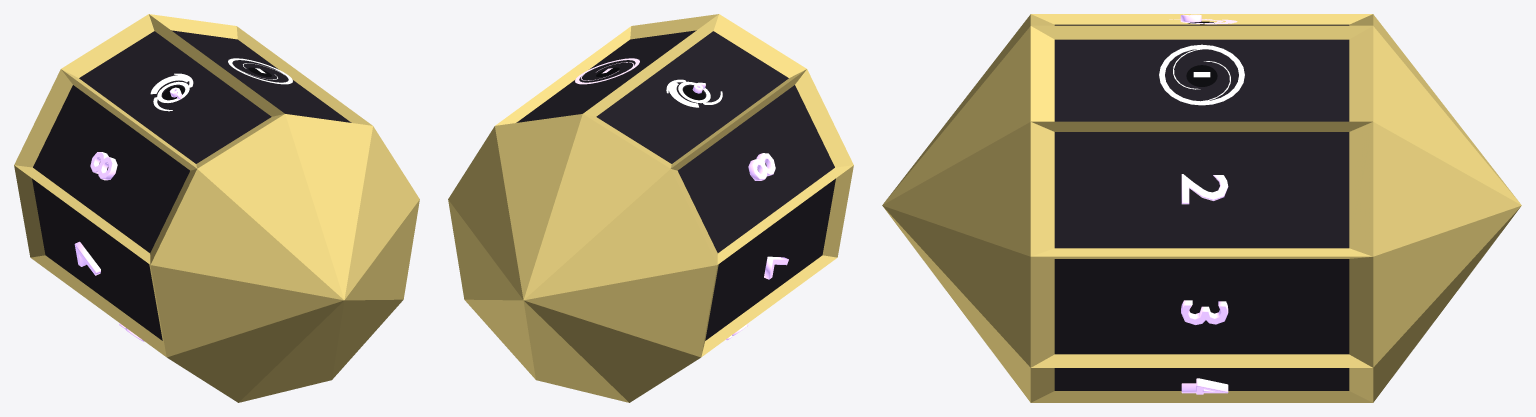
Rendered from d9_black_hole_gold.glb.
3 views of the same model, side by side, from view 1: azimuth 30°, elevation 25°; view 2: azimuth 150°, elevation 25°; view 3: azimuth 270°, elevation 25° (orthographic). The views are drawn at different scales.
Visible parts, largest first — view 1: D9_BlackHole_Gold; view 2: D9_BlackHole_Gold; view 3: D9_BlackHole_Gold.
Boxes of the visible parts, x1,y1,x2,y2 form: D9_BlackHole_Gold: [14, 14, 419, 402]; D9_BlackHole_Gold: [448, 14, 853, 402]; D9_BlackHole_Gold: [882, 14, 1521, 402].
Bounding box in the file's own units: 4.33 × 4.33 × 7.1.
